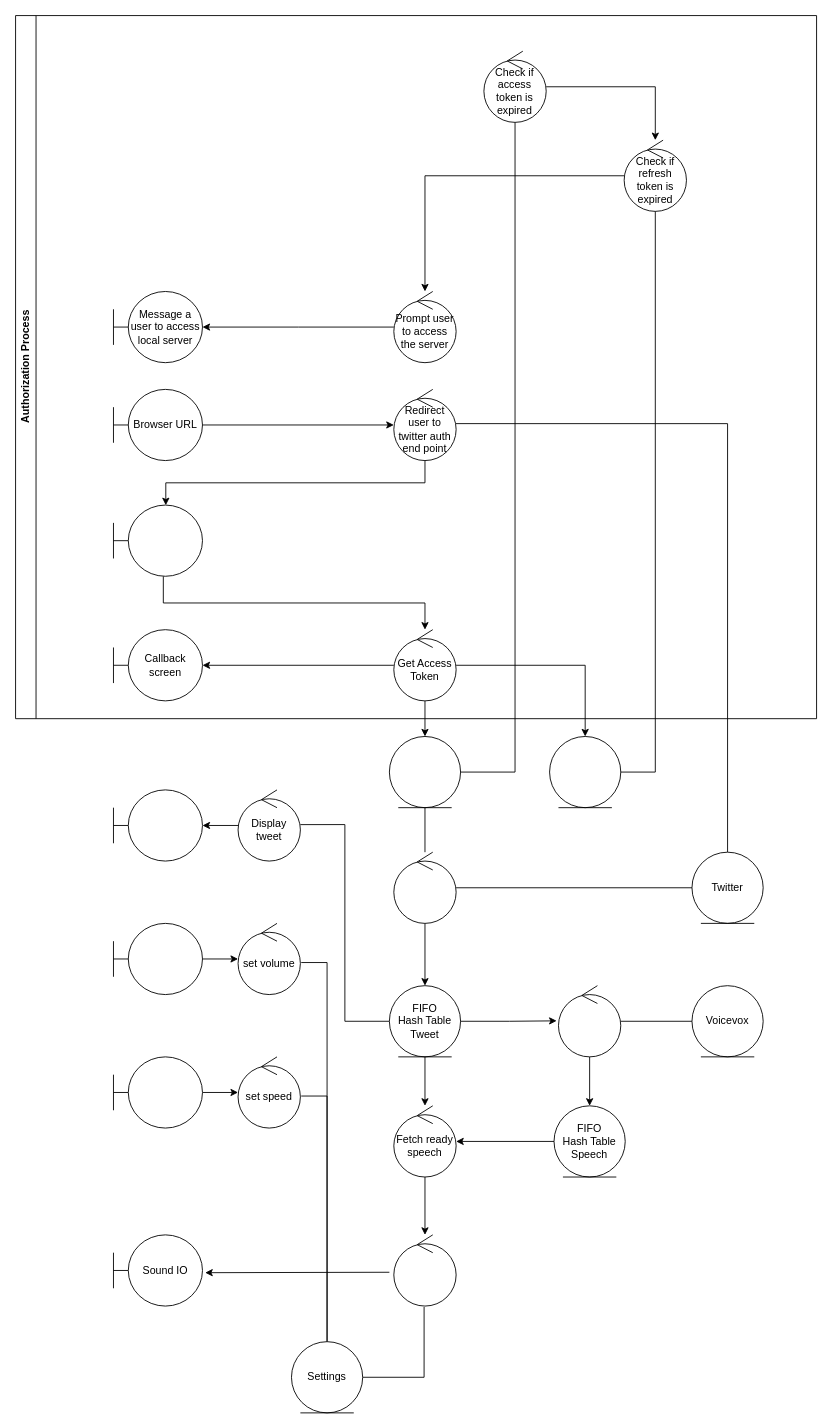
The diagram is 832 pixels wide and 1428 high, and some of its shapes have lost their labels. Here are the shapes that lost their labels. From the top down, the centre of each, then its label:
At point (157, 540): "Login screen, Authorization screen".
At point (424, 772): "Access token".
At point (585, 772): "Refresh token".
At point (157, 825): "Tweets".
At point (424, 887): "Get Tweet".
At point (157, 958): "volume".
At point (589, 1021): "Get speech from text".
At point (157, 1092): "speed".
At point (424, 1270): "Play sound".
